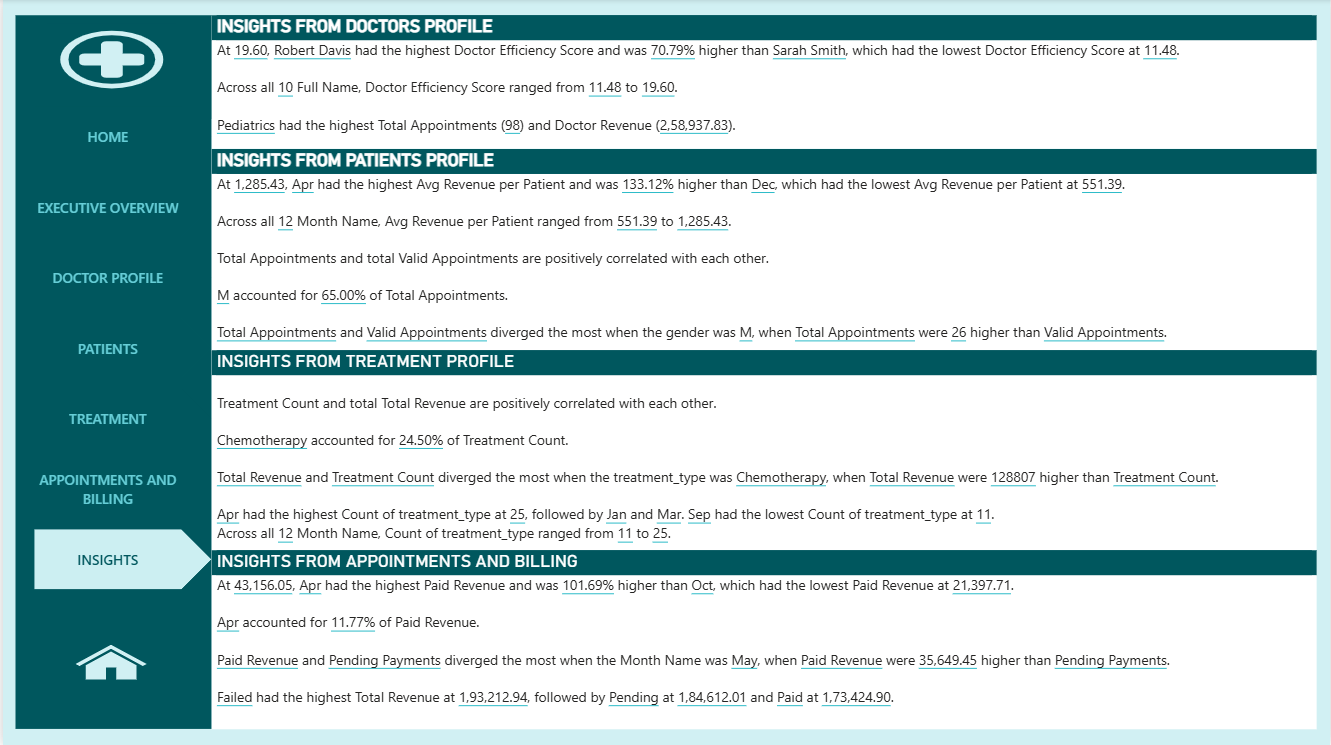

This screenshot's page, from the dashboard's own definition file:
{"tool":"powerbi","page":{"name":"INSIGHTS","canvas":[1280,720],"ordinal":6},"visuals":[{"type":"shape","box":[12.1,15.7,189.4,688.9],"z":0},{"type":"textbox","title":"INSIGHTS FROM DOCTORS PROFILE","box":[201.5,15.7,1066.5,129.1],"z":1000},{"type":"textbox","title":"INSIGHTS FROM PATIENTS PROFILE","box":[201.5,144.8,1066.5,194.2],"z":2000},{"type":"textbox","title":"INSIGHTS FROM TREATMENT PROFILE","box":[201.5,339,1066.5,193],"z":3000},{"type":"textbox","title":"INSIGHTS FROM APPOINTMENTS AND BILLING","box":[201.5,532,1066.5,172.5],"z":4000},{"type":"pageNavigator","box":[30.2,103.8,171.3,470.5],"z":5000},{"type":"image","box":[42.2,0,125.5,117],"z":6000},{"type":"image","box":[65.1,600.8,78.4,78.4],"z":7000}]}

Visuals, with their boxes in screenshot pixels (x1, y1, x2, y2), scaled from the page's 1280x720 canvas onto the 1331x745 screenshot:
shape: x1=13, y1=16, x2=210, y2=729
"INSIGHTS FROM DOCTORS PROFILE" textbox: x1=210, y1=16, x2=1319, y2=150
"INSIGHTS FROM PATIENTS PROFILE" textbox: x1=210, y1=150, x2=1319, y2=351
"INSIGHTS FROM TREATMENT PROFILE" textbox: x1=210, y1=351, x2=1319, y2=550
"INSIGHTS FROM APPOINTMENTS AND BILLING" textbox: x1=210, y1=550, x2=1319, y2=729
pageNavigator: x1=31, y1=107, x2=210, y2=594
image: x1=44, y1=0, x2=174, y2=121
image: x1=68, y1=622, x2=149, y2=703
